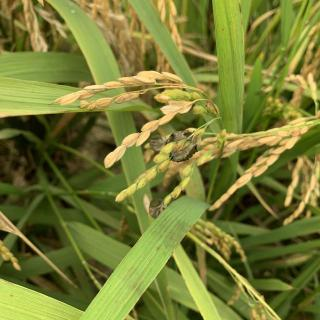Gosong-Palsu: (163, 129, 202, 165), (144, 197, 170, 220)
